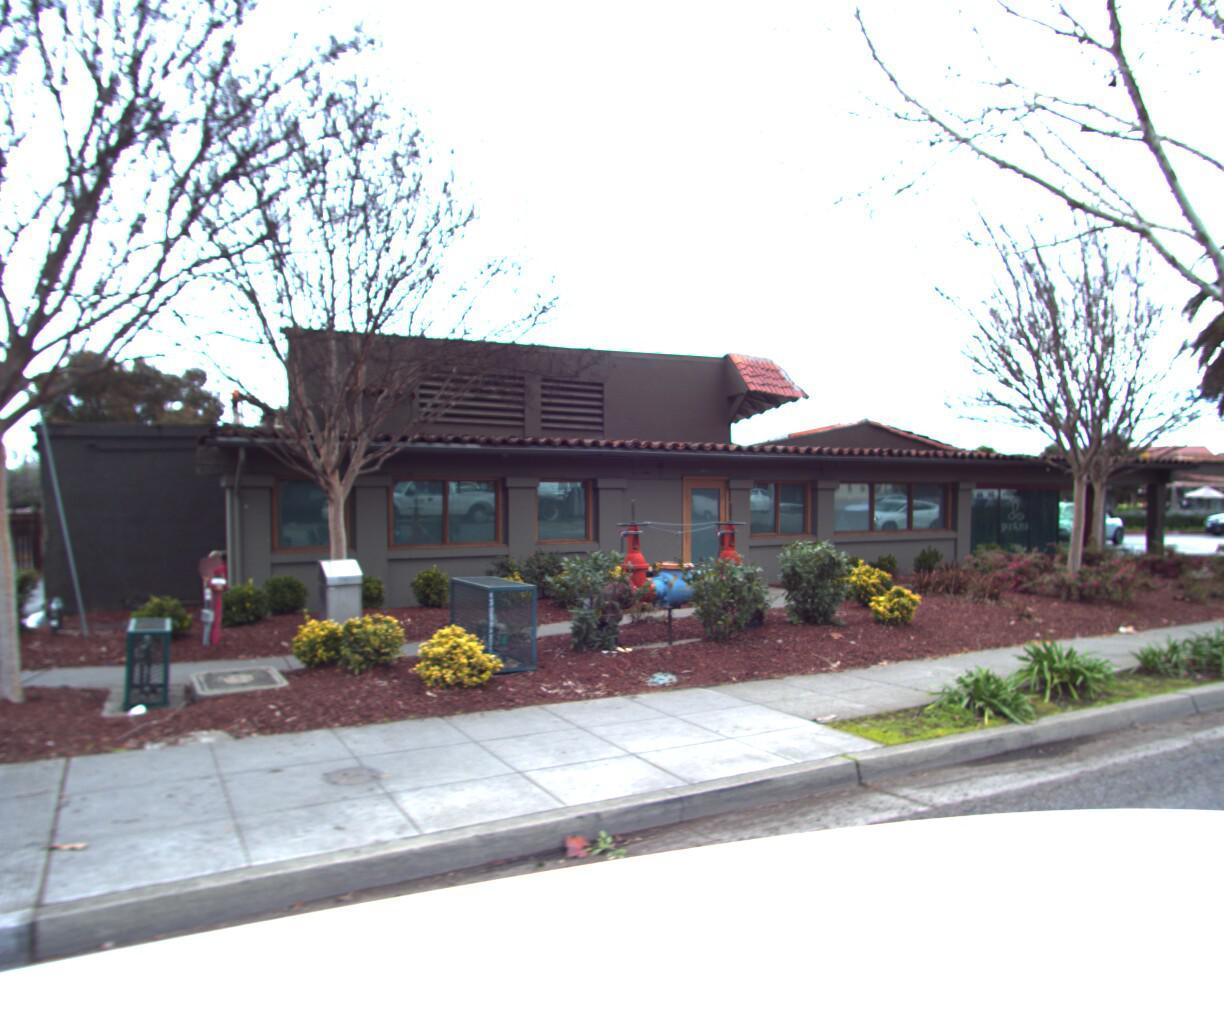car: (1041, 498, 1135, 537)
